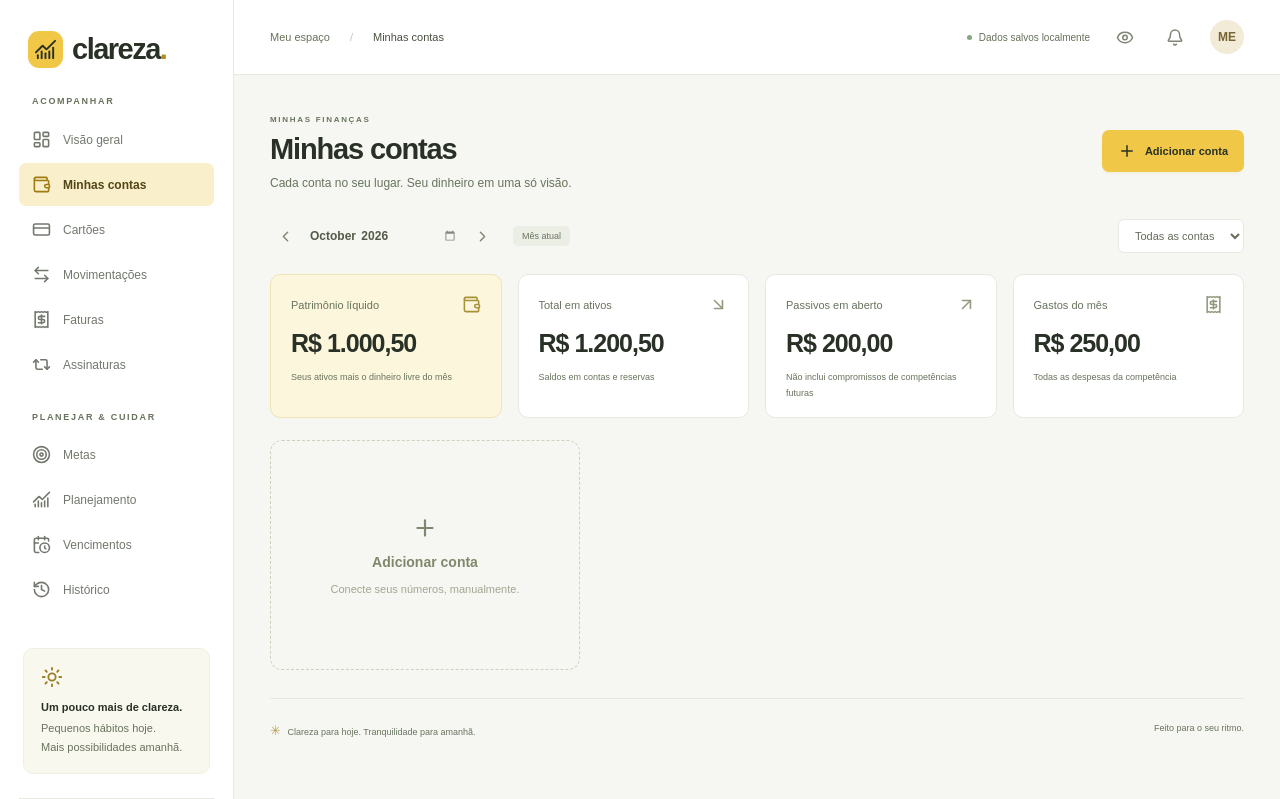
it: Fluxos principais › salva uma conta com saldo e mostra feedback
Expected: the text "R$ 1.000,50" is shown, x1=291 y1=329 x2=416 y2=357
Step 1. Click the button "Adicionar conta" → click(1173, 151), box x1=1102 y1=130 x2=1244 y2=172
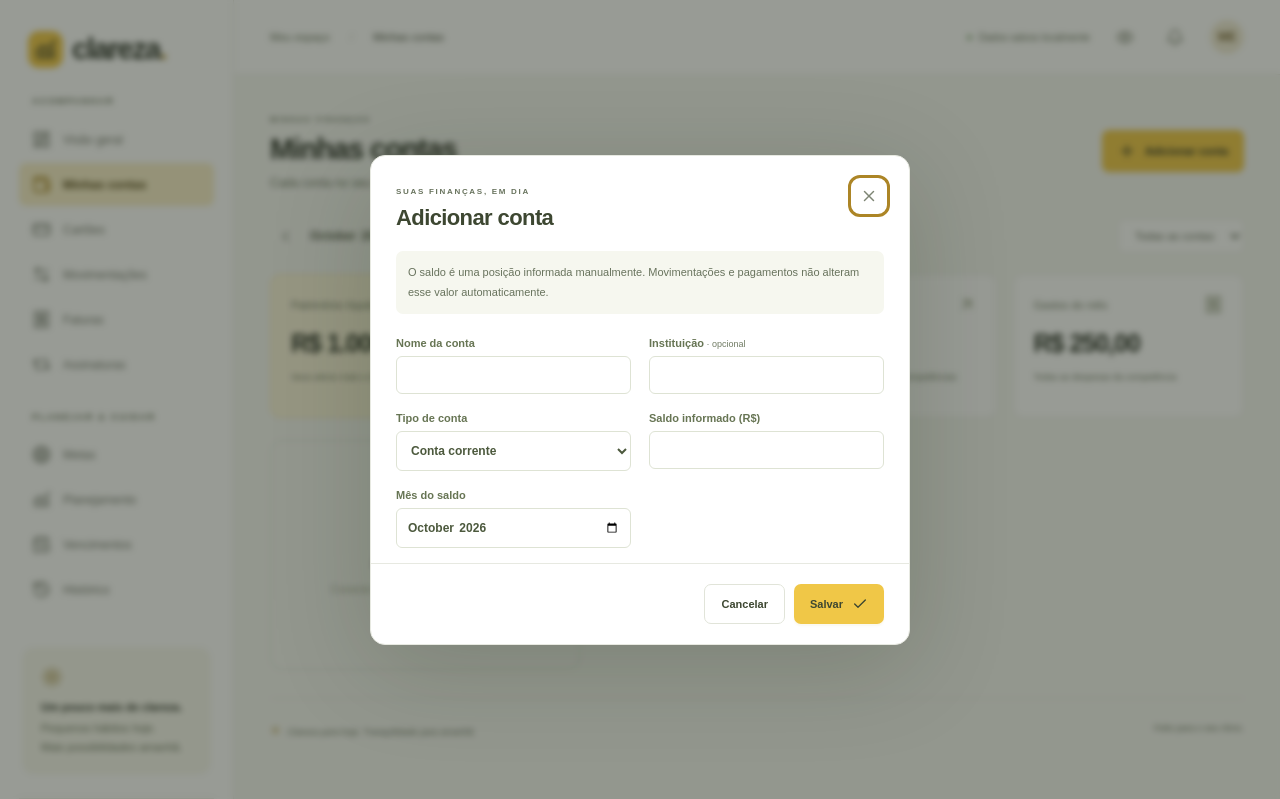
Step 2. Type "Nubank" into the field labelled "Nome da conta" → (514, 375), box x1=396 y1=356 x2=631 y2=394
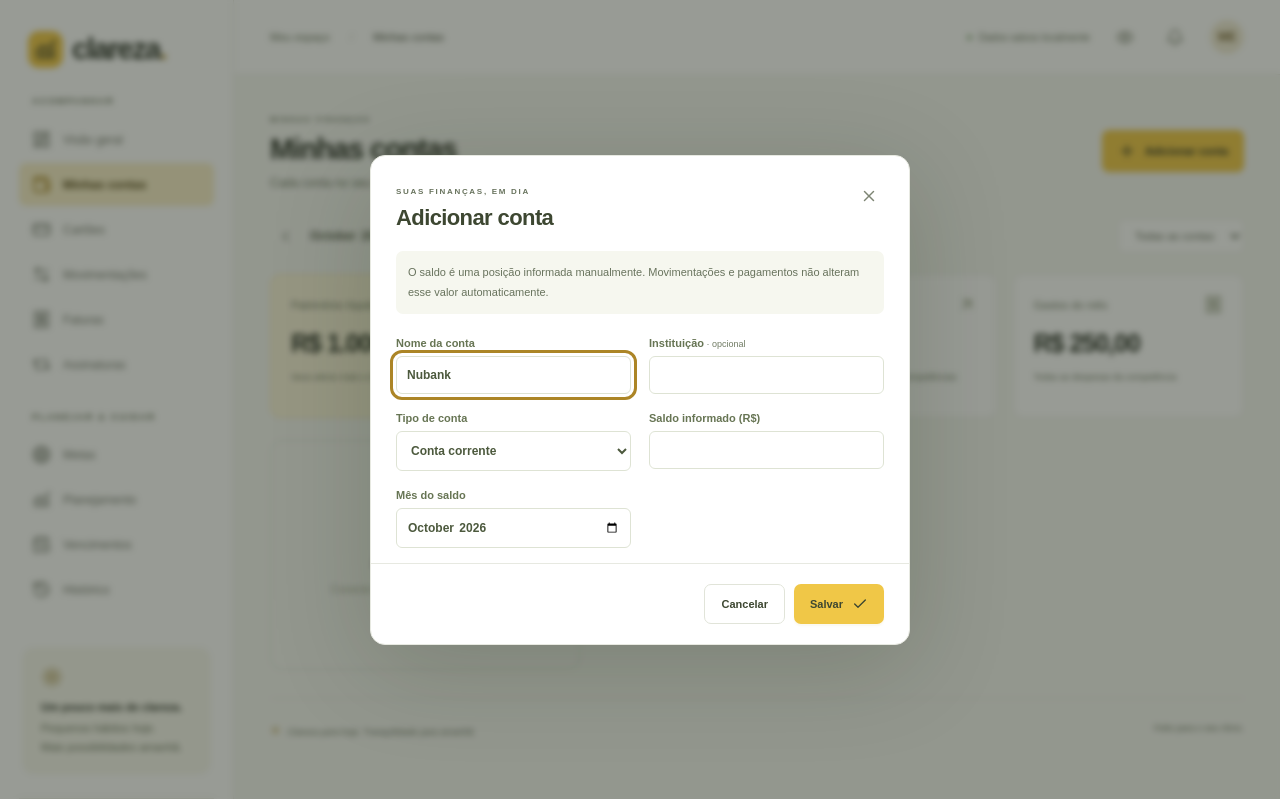
Step 3. Type "1500.50" into the number field labelled "Saldo informado (R$)" → (766, 450), box x1=649 y1=431 x2=884 y2=469
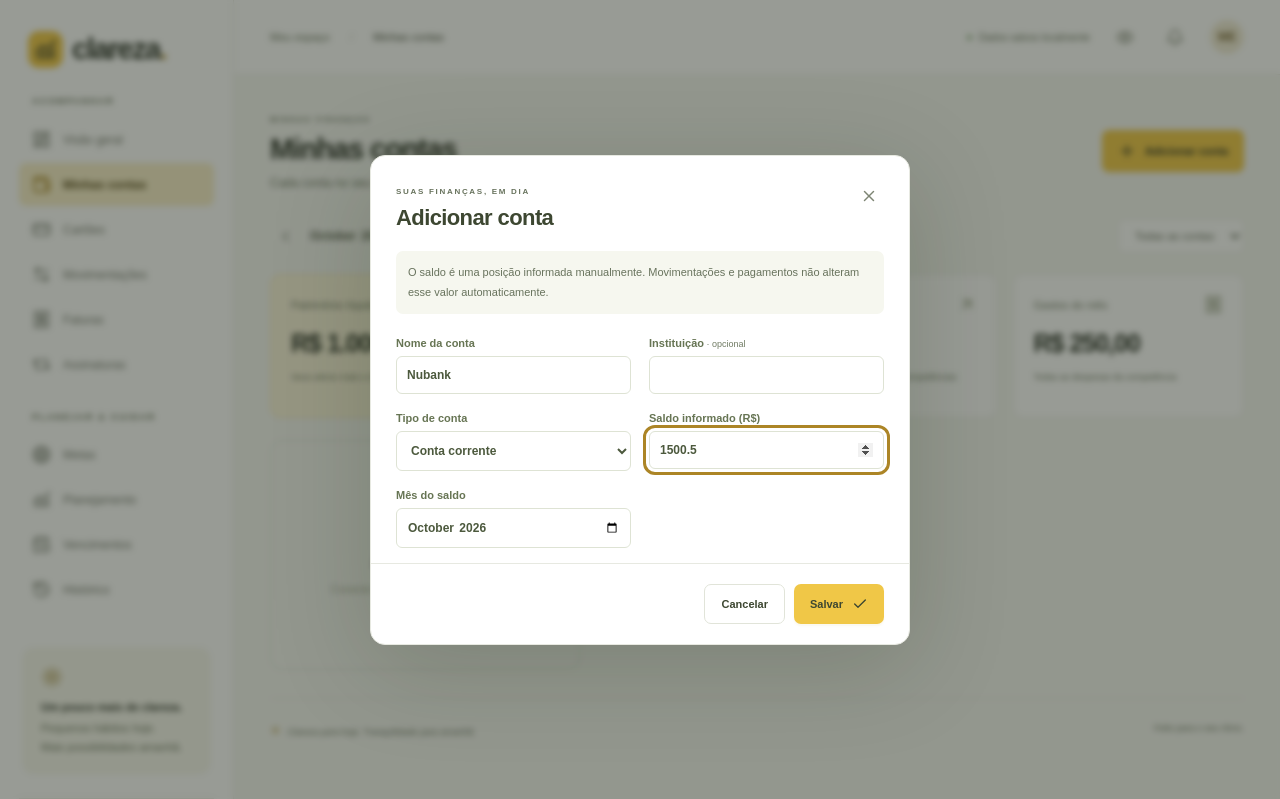
Step 4. Click the button "Salvar" → click(839, 604), box x1=794 y1=584 x2=884 y2=624
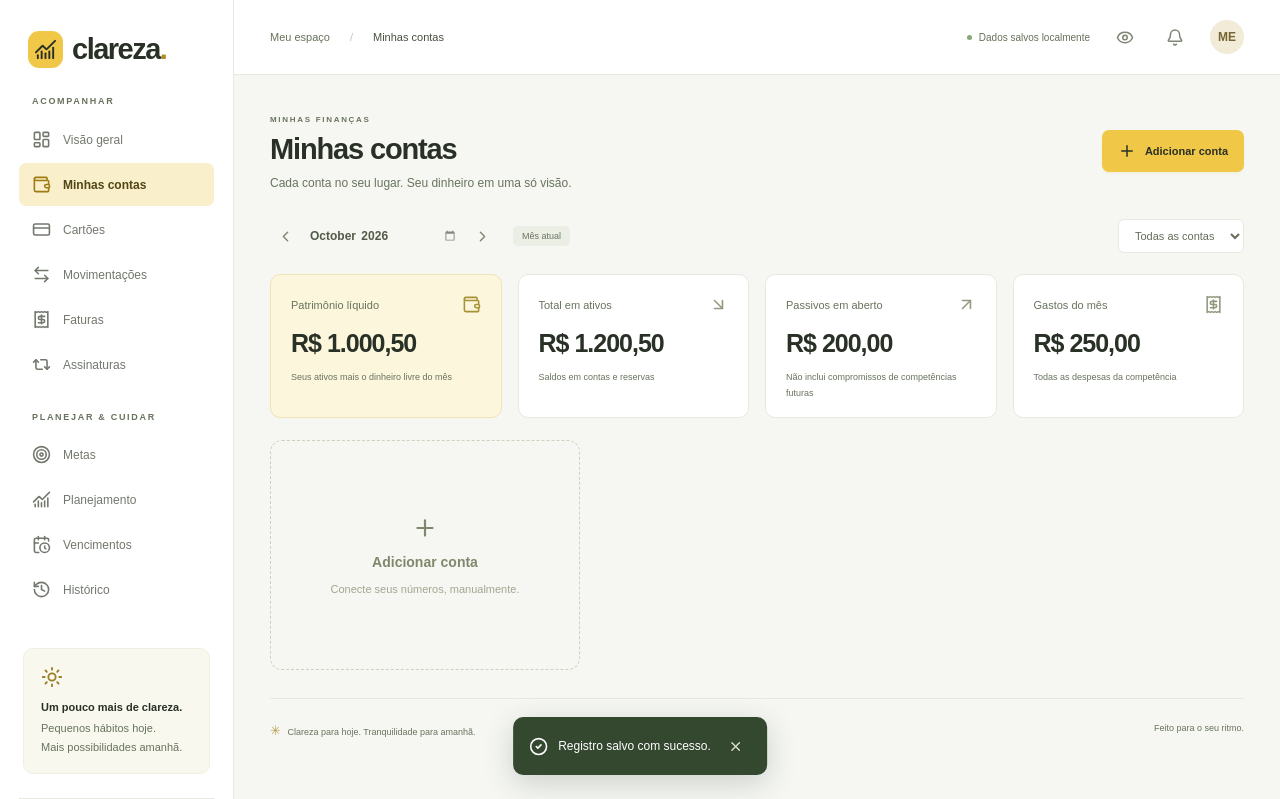
Expected: the text "Registro salvo com sucesso." is shown, x1=513 y1=717 x2=767 y2=775
